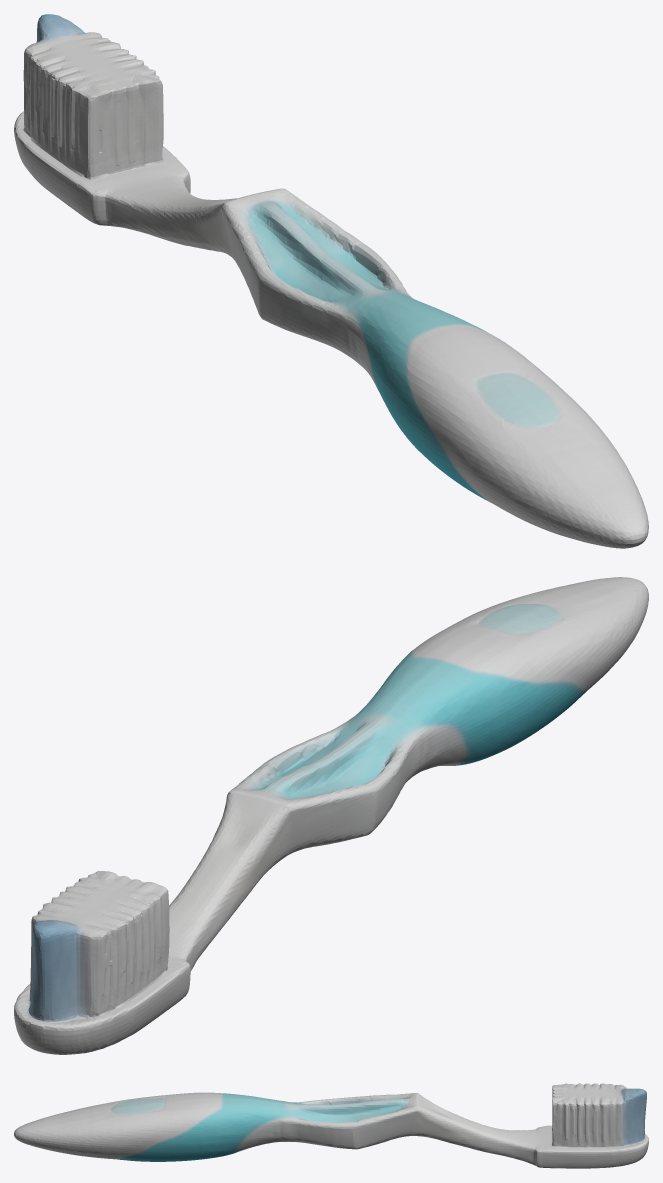
File: obj1_scaled.glb
The picture shows the model from 3 angles, top to bottom: view 1: azimuth 30°, elevation 25°; view 2: azimuth 150°, elevation 25°; view 3: azimuth 270°, elevation 25°; orthographic projection. The views are drawn at different scales.
Parts seen in each view (by area): view 1: world; view 2: world; view 3: world.
Part boxes in pixels (bbox=[...]): world: bbox=[14, 14, 648, 548]; world: bbox=[14, 577, 648, 1054]; world: bbox=[14, 1083, 648, 1168].
Size of the model in its own units: 0.00942 by 0.00922 by 0.077.
